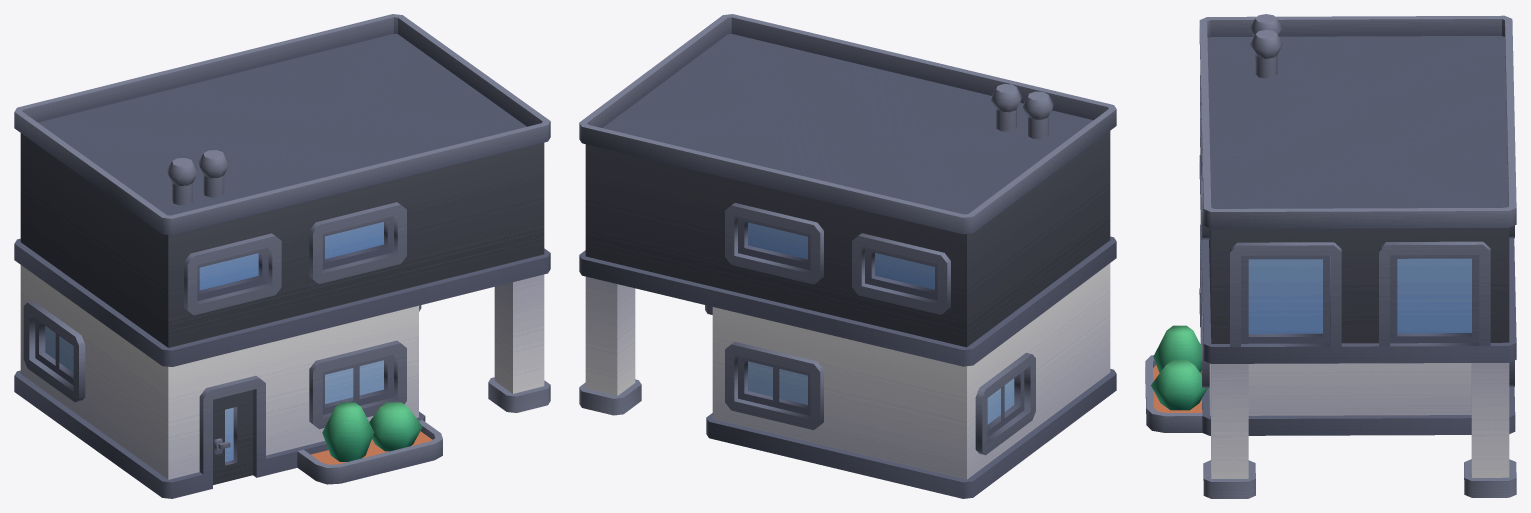
File: building-type-p.002_lev3.glb
The picture shows the model from 3 angles, left to right: view 1: azimuth 30°, elevation 25°; view 2: azimuth 150°, elevation 25°; view 3: azimuth 270°, elevation 25°; orthographic projection. The views are drawn at different scales.
Parts seen in each view (by area): view 1: building-type-p.002_lev3; view 2: building-type-p.002_lev3; view 3: building-type-p.002_lev3.
Boxes of the visible parts, x1,y1,x2,y2 form: building-type-p.002_lev3: (14,14,550,498); building-type-p.002_lev3: (579,14,1116,498); building-type-p.002_lev3: (1145,14,1516,498).
Bounding box in the file's own units: 4.99 × 3.67 × 3.99.
Materials: 1 (1 with a texture image).
